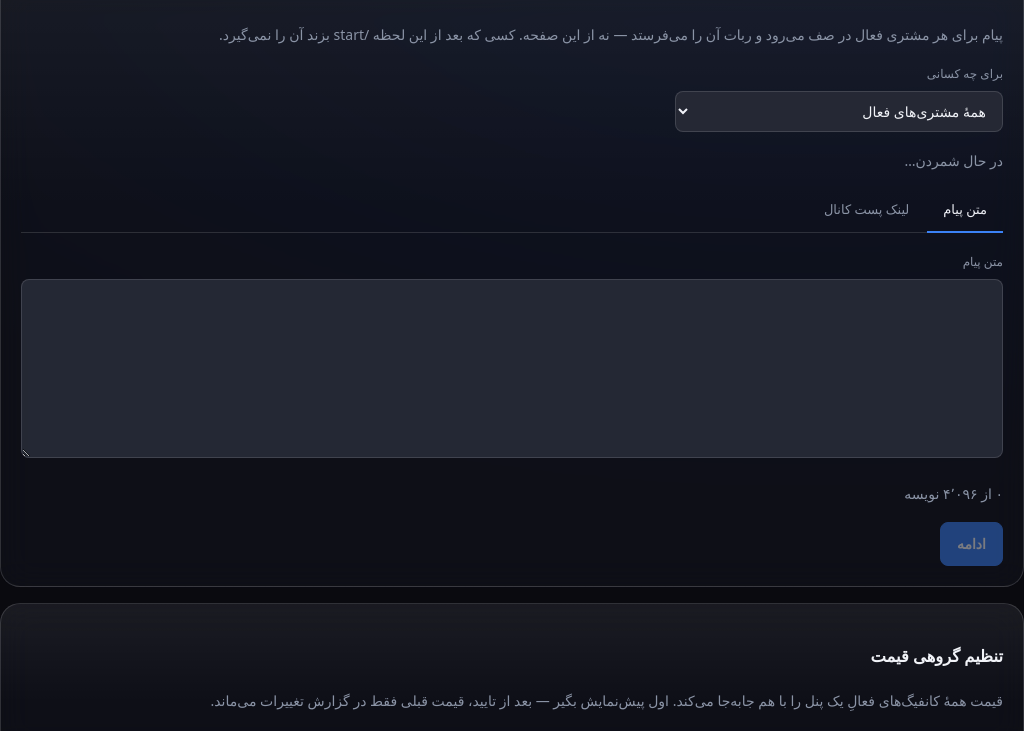
Test: choosing who hears a broadcast › shows the server’s count for the audience, not one of its own
(page scrolled)
Type "سلام" into the text box labelled "متن پیام" at (512, 369), box left=21, top=279, right=1003, bottom=458
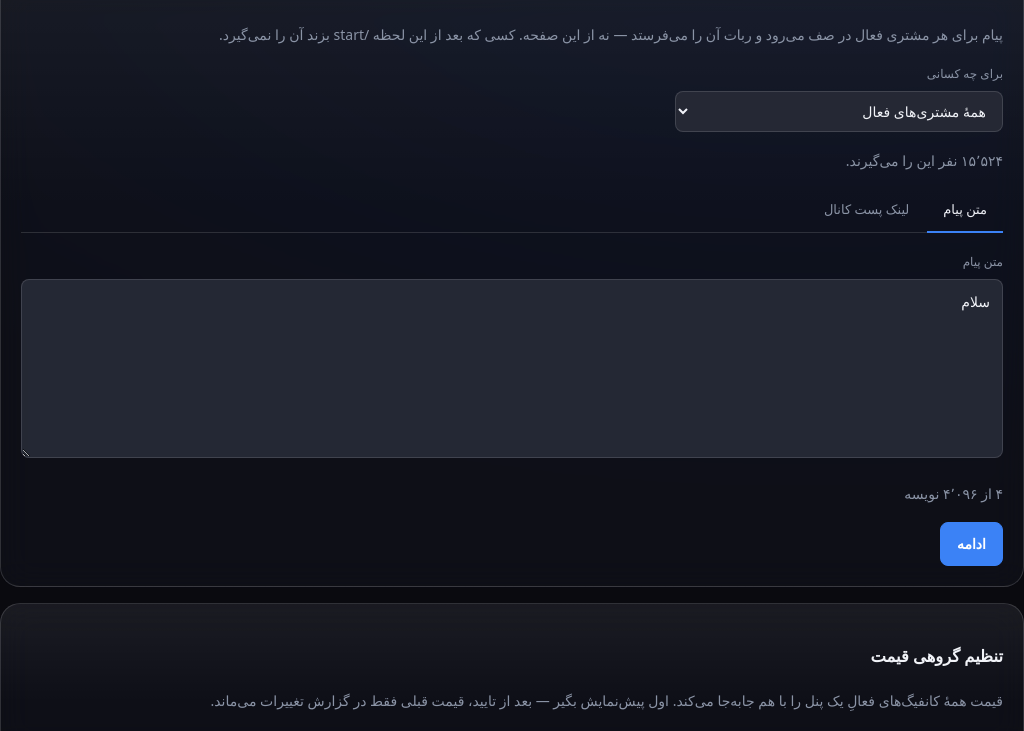
Check: the text "۱۵٬۵۲۴ نفر این را می‌گیرند." is shown, box left=846, top=151, right=1003, bottom=170
Select "استارت زده و هیچ خریدی نکرده" in the dropdown labelled "برای چه کسانی" at (839, 111), box left=675, top=91, right=1003, bottom=132
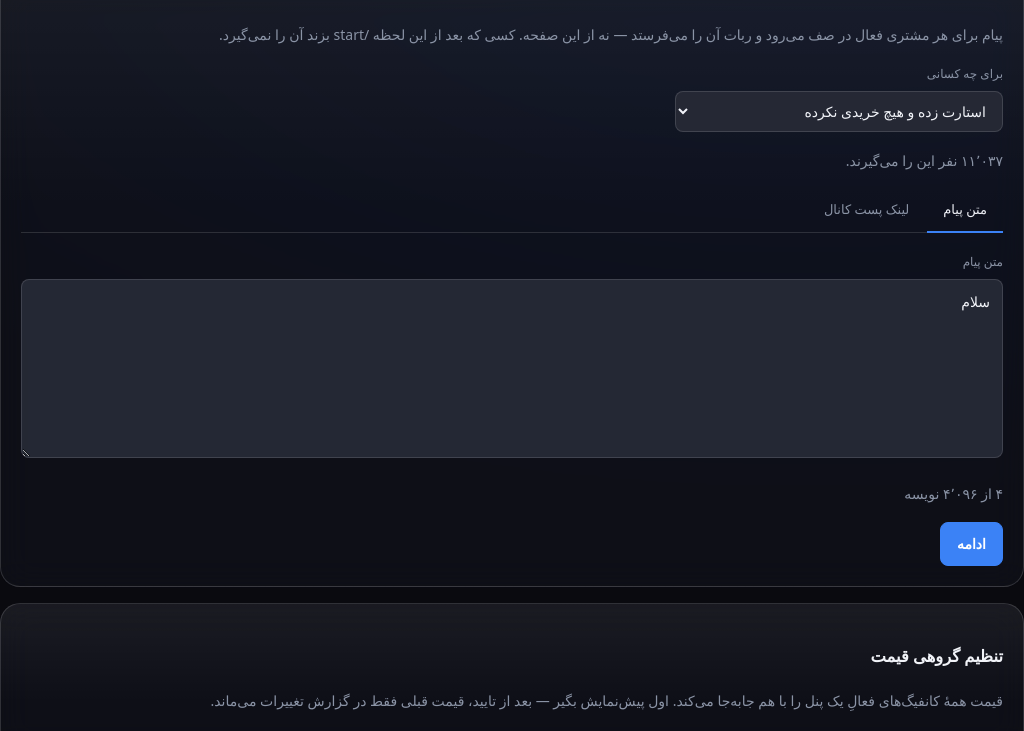
Check: the text "۱۱٬۰۳۷ نفر این را می‌گیرند." is shown, box left=846, top=151, right=1003, bottom=170
Select "سرویسش تمام شده و سرویس فعالی ندارد" in the dropdown labelled "برای چه کسانی" at (839, 111), box left=675, top=91, right=1003, bottom=132
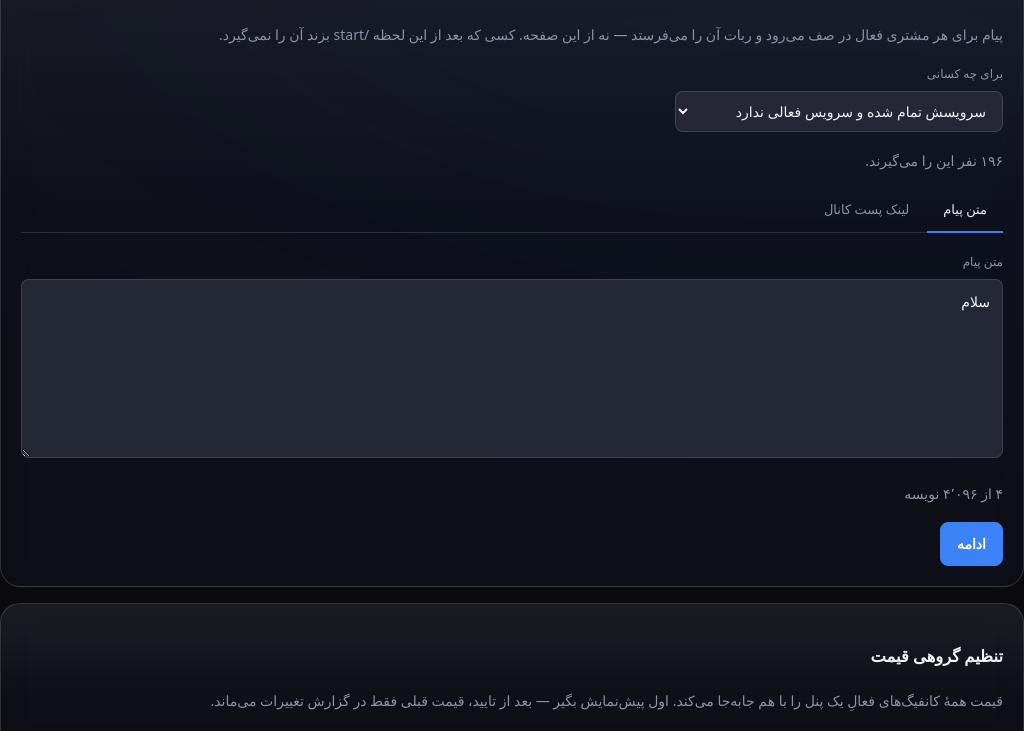
Check: the text "۱۹۶ نفر این را می‌گیرند." is shown, box left=865, top=151, right=1003, bottom=170
